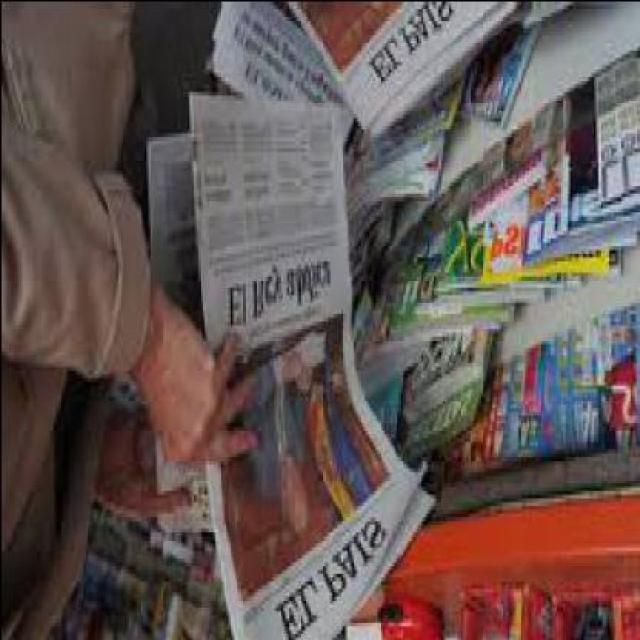PAPER: (188, 101, 429, 638), (281, 3, 519, 143), (142, 128, 195, 534), (432, 185, 562, 302), (206, 4, 342, 108), (478, 184, 614, 282), (387, 222, 495, 340), (558, 75, 633, 242), (465, 102, 558, 229), (398, 298, 491, 425), (454, 19, 538, 136), (415, 233, 514, 316), (590, 52, 638, 218), (348, 110, 439, 196), (357, 240, 421, 358), (400, 380, 475, 460), (567, 316, 610, 452), (527, 335, 567, 459), (492, 350, 532, 464), (610, 302, 638, 444), (523, 174, 560, 263), (463, 377, 495, 471)
